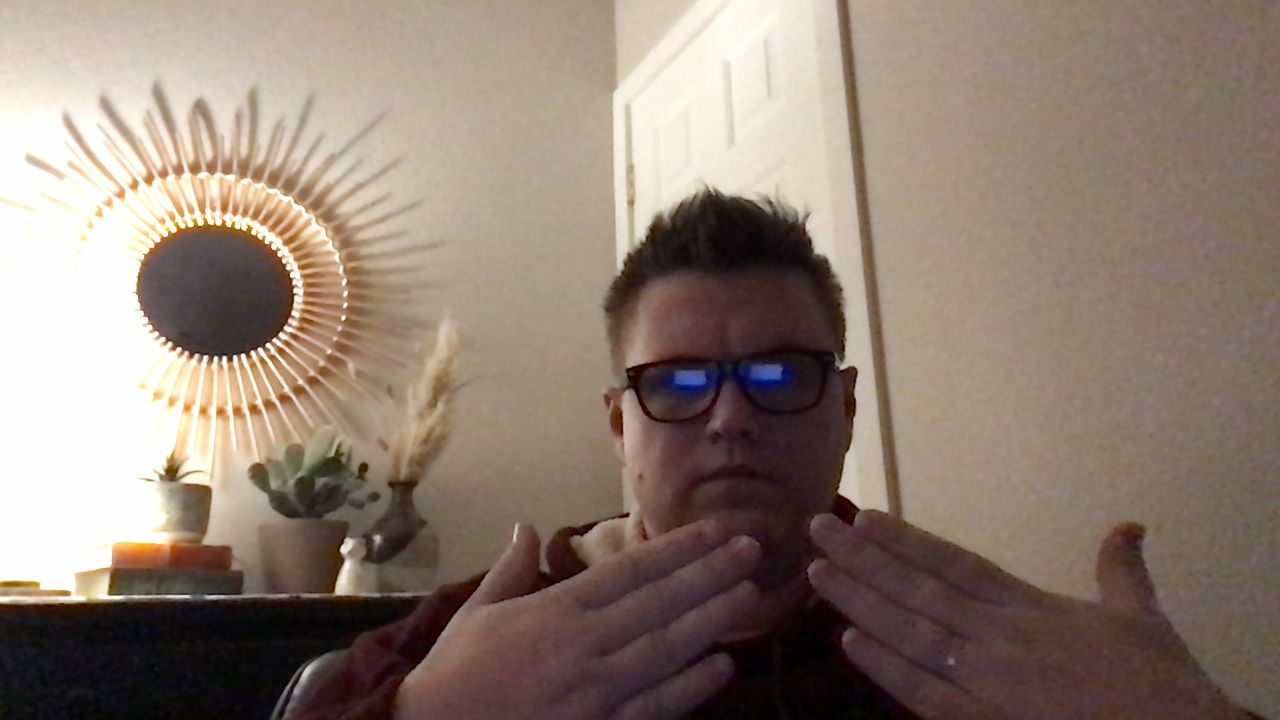thankyou: (395, 518, 1280, 720)
